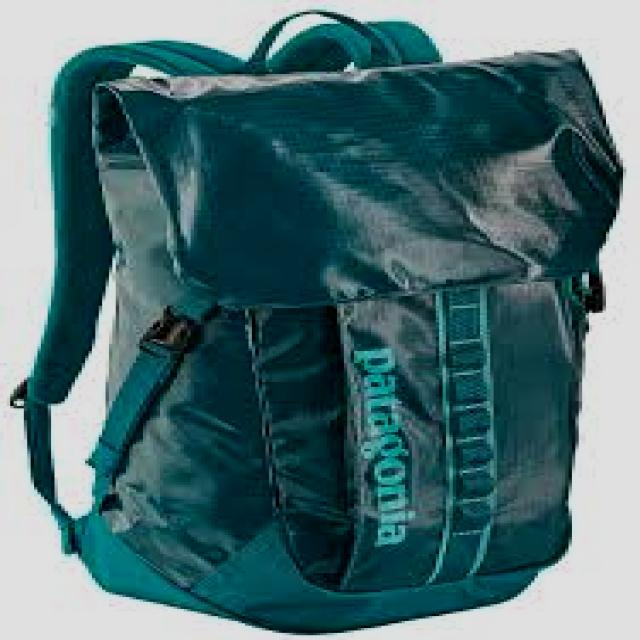backpack: (8, 8, 624, 634)
